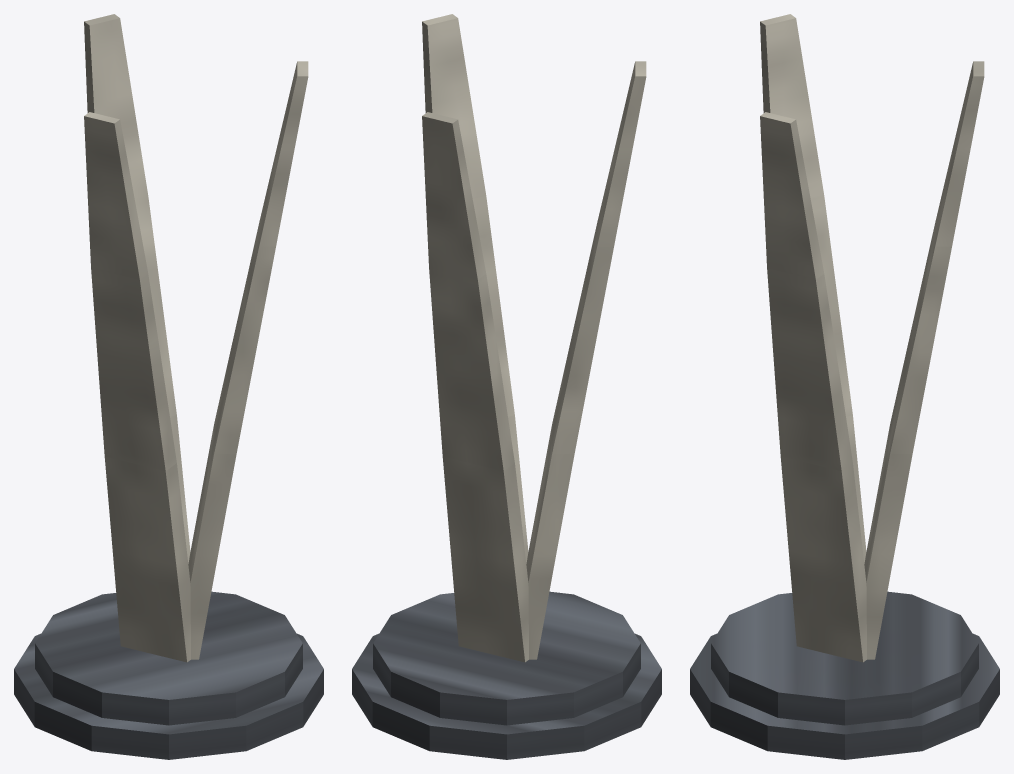
The model's file is jianzi.fbx.
The picture shows the model from 3 angles, left to right: view 1: azimuth 30°, elevation 25°; view 2: azimuth 150°, elevation 25°; view 3: azimuth 270°, elevation 25°; orthographic projection.
Parts seen in each view (by area): view 1: jianzi; view 2: jianzi; view 3: jianzi.
Boxes of the visible parts, left/top/right/bottom form: jianzi: left=14, top=14, right=323, bottom=759; jianzi: left=352, top=14, right=661, bottom=759; jianzi: left=690, top=14, right=999, bottom=759.
Size of the model in its own units: 4.4 by 9.8 by 4.4.
